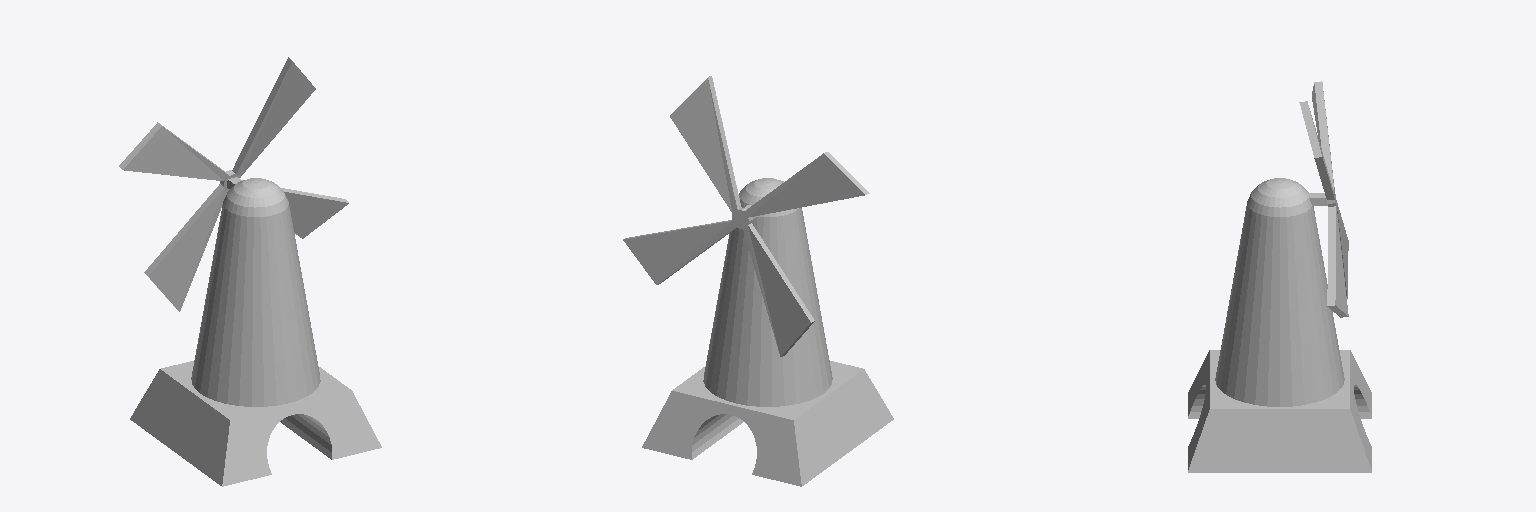
File: windmill_tunnel.obj
3 renders of one model, left to right at view 1: azimuth 30°, elevation 25°; view 2: azimuth 150°, elevation 25°; view 3: azimuth 270°, elevation 25°, orthographic.
Visible parts, largest first — view 1: Cylinder; view 2: Cylinder; view 3: Cylinder.
Boxes of the visible parts, x1,y1,x2,y2 form: Cylinder: [119, 57, 381, 486]; Cylinder: [623, 76, 893, 486]; Cylinder: [1188, 81, 1371, 472].
Bounding box in the file's own units: 3.13 × 4.52 × 2.13.